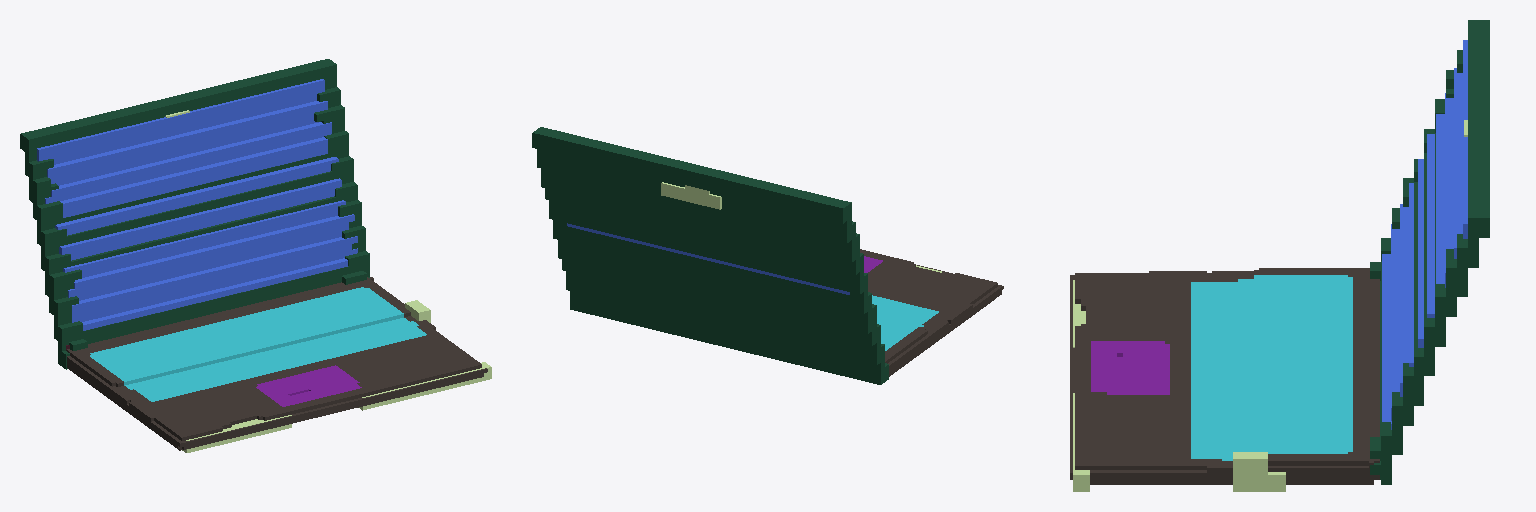
URDF robot description (physxnet_10125_strict):
<?xml version='1.0' encoding='utf-8'?>
<robot name="physxnet_10125_strict">
  <link name="l_world">
    <inertial>
      <origin xyz="0 0 0" rpy="0 0 0" />
      <mass value="0.0100000000" />
      <inertia ixx="0.0000001667" ixy="0.0" ixz="0.0" iyy="0.0000001667" iyz="0.0" izz="0.0000001667" />
    </inertial>
  </link><link name="l_0">
    <inertial>
      <origin xyz="0.0000229325 0.1152141873 0.0047509809" rpy="0 0 0" />
      <mass value="0.0405952634" />
      <inertia ixx="0.0001394646" ixy="0.0" ixz="0.0" iyy="0.0004884064" iyz="0.0" izz="0.0003812302" />
    </inertial><visual>
      <origin xyz="0 0 0" rpy="0 0 0" />
      <geometry>
        <mesh filename="../rigid_visuals/part_000_visual.obj" scale="1 1 1" />
      </geometry><material name="mat_l_0">
        <color rgba="0.32548 0.48041 0.93131 1.00000" />
      </material>
    </visual><collision>
      <origin xyz="0 0 0" rpy="0 0 0" />
      <geometry>
        <mesh filename="part_000_collision.obj" scale="1 1 1" />
      </geometry>
    </collision>
  </link><joint name="joint_fixed_l_world_l_0" type="fixed">
    <parent link="l_world" />
    <child link="l_0" />
    <origin xyz="0 0 0" rpy="0 0 0" />
  </joint><link name="l_1">
    <inertial>
      <origin xyz="-0.0000003954 0.1153090804 0.0028950302" rpy="0 0 0" />
      <mass value="0.1117226213" />
      <inertia ixx="0.0004929154" ixy="0.0" ixz="0.0" iyy="0.0015575923" iyz="0.0" izz="0.0011931636" />
    </inertial><visual>
      <origin xyz="0 0 0" rpy="0 0 0" />
      <geometry>
        <mesh filename="../rigid_visuals/part_001_visual.obj" scale="1 1 1" />
      </geometry><material name="mat_l_1">
        <color rgba="0.15447 0.35718 0.26453 1.00000" />
      </material>
    </visual><collision>
      <origin xyz="0 0 0" rpy="0 0 0" />
      <geometry>
        <mesh filename="part_001_collision.obj" scale="1 1 1" />
      </geometry>
    </collision>
  </link><joint name="joint_fixed_l_0_l_1" type="fixed">
    <parent link="l_0" />
    <child link="l_1" />
    <origin xyz="0 0 0" rpy="0 0 0" />
  </joint><link name="l_2">
    <inertial>
      <origin xyz="0.0010349937 -0.0043163178 -0.1027842462" rpy="0 0 0" />
      <mass value="0.0096562632" />
      <inertia ixx="0.0000116106" ixy="0.0" ixz="0.0" iyy="0.0000854071" iyz="0.0" izz="0.0000967107" />
    </inertial><visual>
      <origin xyz="0 0 0" rpy="0 0 0" />
      <geometry>
        <mesh filename="../rigid_visuals/part_002_visual.obj" scale="1 1 1" />
      </geometry><material name="mat_l_2">
        <color rgba="0.29417 0.82410 0.87988 1.00000" />
      </material>
    </visual><collision>
      <origin xyz="0 0 0" rpy="0 0 0" />
      <geometry>
        <mesh filename="part_002_collision.obj" scale="1 1 1" />
      </geometry>
    </collision>
  </link><joint name="joint_fixed_l_1_l_2" type="fixed">
    <parent link="l_1" />
    <child link="l_2" />
    <origin xyz="0 0 0" rpy="0 0 0" />
  </joint><link name="l_3">
    <inertial>
      <origin xyz="-0.0020044848 -0.1120310511 -0.1010428262" rpy="0 0 0" />
      <mass value="0.0001968940" />
      <inertia ixx="0.0000000547" ixy="0.0" ixz="0.0" iyy="0.0000001287" iyz="0.0" izz="0.0000001832" />
    </inertial><visual>
      <origin xyz="0 0 0" rpy="0 0 0" />
      <geometry>
        <mesh filename="../rigid_visuals/part_003_visual.obj" scale="1 1 1" />
      </geometry><material name="mat_l_3">
        <color rgba="0.55944 0.19916 0.68114 1.00000" />
      </material>
    </visual><collision>
      <origin xyz="0 0 0" rpy="0 0 0" />
      <geometry>
        <mesh filename="part_003_collision.obj" scale="1 1 1" />
      </geometry>
    </collision>
  </link><joint name="joint_fixed_l_2_l_3" type="fixed">
    <parent link="l_2" />
    <child link="l_3" />
    <origin xyz="0 0 0" rpy="0 0 0" />
  </joint><link name="l_4">
    <inertial>
      <origin xyz="0.0000000000 -0.0407162546 -0.1028058608" rpy="0 0 0" />
      <mass value="0.0485766464" />
      <inertia ixx="0.0002192406" ixy="0.0" ixz="0.0" iyy="0.0004967679" iyz="0.0" izz="0.0007142459" />
    </inertial><visual>
      <origin xyz="0 0 0" rpy="0 0 0" />
      <geometry>
        <mesh filename="../rigid_visuals/part_004_visual.obj" scale="1 1 1" />
      </geometry><material name="mat_l_4">
        <color rgba="0.31347 0.28085 0.26098 1.00000" />
      </material>
    </visual><collision>
      <origin xyz="0 0 0" rpy="0 0 0" />
      <geometry>
        <mesh filename="part_004_collision.obj" scale="1 1 1" />
      </geometry>
    </collision>
  </link><joint name="joint_fixed_l_3_l_4" type="fixed">
    <parent link="l_3" />
    <child link="l_4" />
    <origin xyz="0 0 0" rpy="0 0 0" />
  </joint><link name="l_5">
    <inertial>
      <origin xyz="-0.0032815877 0.0739961854 -0.0971075304" rpy="0 0 0" />
      <mass value="0.0070852357" />
      <inertia ixx="0.0000002101" ixy="0.0" ixz="0.0" iyy="0.0000685352" iyz="0.0" izz="0.0000685397" />
    </inertial><visual>
      <origin xyz="0 0 0" rpy="0 0 0" />
      <geometry>
        <mesh filename="../rigid_visuals/part_005_visual.obj" scale="1 1 1" />
      </geometry><material name="mat_l_5">
        <color rgba="0.31346 0.15755 0.21545 1.00000" />
      </material>
    </visual><collision>
      <origin xyz="0 0 0" rpy="0 0 0" />
      <geometry>
        <mesh filename="part_005_collision.obj" scale="1 1 1" />
      </geometry>
    </collision>
  </link><joint name="joint_fixed_l_4_l_5" type="fixed">
    <parent link="l_4" />
    <child link="l_5" />
    <origin xyz="0 0 0" rpy="0 0 0" />
  </joint><link name="l_6">
    <inertial>
      <origin xyz="0.0039196120 -0.0024044856 -0.0105047974" rpy="0 0 0" />
      <mass value="0.1228014899" />
      <inertia ixx="0.0013546258" ixy="0.0" ixz="0.0" iyy="0.0015830859" iyz="0.0" izz="0.0021323140" />
    </inertial><visual>
      <origin xyz="0 0 0" rpy="0 0 0" />
      <geometry>
        <mesh filename="../rigid_visuals/part_006_visual.obj" scale="1 1 1" />
      </geometry><material name="mat_l_6">
        <color rgba="0.81497 0.92565 0.67671 1.00000" />
      </material>
    </visual><collision>
      <origin xyz="0 0 0" rpy="0 0 0" />
      <geometry>
        <mesh filename="part_006_collision.obj" scale="1 1 1" />
      </geometry>
    </collision>
  </link><joint name="joint_fixed_l_5_l_6" type="fixed">
    <parent link="l_5" />
    <child link="l_6" />
    <origin xyz="0 0 0" rpy="0 0 0" />
  </joint>
</robot>

--- Render facts (derived) ---
3 views of the same robot in one strip: view 1: azimuth 30°, elevation 25°; view 2: azimuth 150°, elevation 25°; view 3: azimuth 270°, elevation 25° (orthographic).
Model physxnet_10125_strict with 8 links and 7 joints (7 fixed), rooted at l_world, posed all joints at 0.
Visible links, largest first — view 1: l_0, l_1, l_4, l_2, l_3, l_6; view 2: l_1, l_4, l_2, l_6, l_0; view 3: l_4, l_2, l_1, l_0, l_3, l_6.
Link boxes in pixels (x1=…): l_0: x1=37, y1=79, x2=357, y2=330; l_1: x1=20, y1=59, x2=369, y2=369; l_4: x1=66, y1=277, x2=487, y2=450; l_2: x1=90, y1=287, x2=426, y2=401; l_3: x1=256, y1=365, x2=361, y2=406; l_6: x1=165, y1=110, x2=491, y2=452; l_1: x1=532, y1=127, x2=888, y2=384; l_4: x1=860, y1=249, x2=1003, y2=376; l_2: x1=872, y1=295, x2=938, y2=350; l_6: x1=661, y1=182, x2=941, y2=272; l_0: x1=567, y1=223, x2=849, y2=294; l_4: x1=1070, y1=268, x2=1379, y2=484; l_2: x1=1191, y1=275, x2=1352, y2=460; l_1: x1=1370, y1=20, x2=1489, y2=484; l_0: x1=1382, y1=40, x2=1467, y2=429; l_3: x1=1091, y1=341, x2=1169, y2=394; l_6: x1=1073, y1=120, x2=1467, y2=491.
Bounding box of the posed robot: 0.362 × 0.32 × 0.2276 m (x, y, z).
7 mesh visuals loaded from 7 distinct referenced files (7 OBJ).
